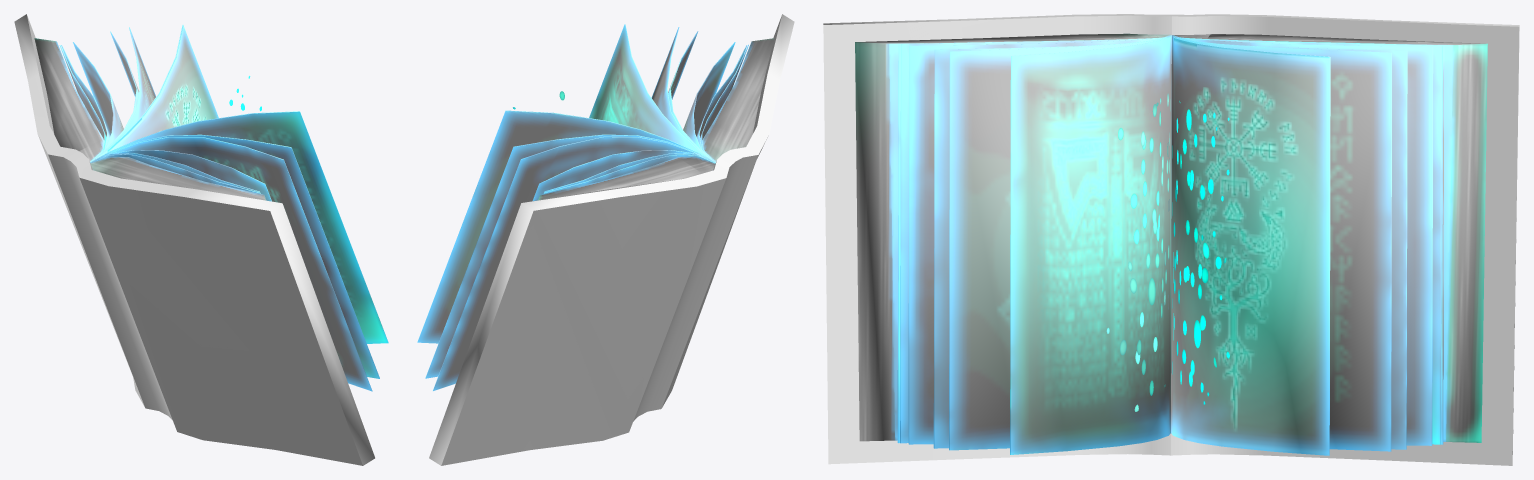
The model's file is MagicBook_1.fbx.
3 renders of one model, left to right at view 1: azimuth 30°, elevation 25°; view 2: azimuth 150°, elevation 25°; view 3: azimuth 270°, elevation 25°, orthographic. The views are drawn at different scales.
Parts seen in each view (by area): view 1: MagicBook_2; view 2: MagicBook_2; view 3: MagicBook_2.
Part boxes in pixels (x1,y1,x2,y2): MagicBook_2: (14, 14, 388, 465); MagicBook_2: (417, 14, 794, 465); MagicBook_2: (823, 14, 1519, 465).
Size of the model in its own units: 65.71 by 74.4 by 102.
